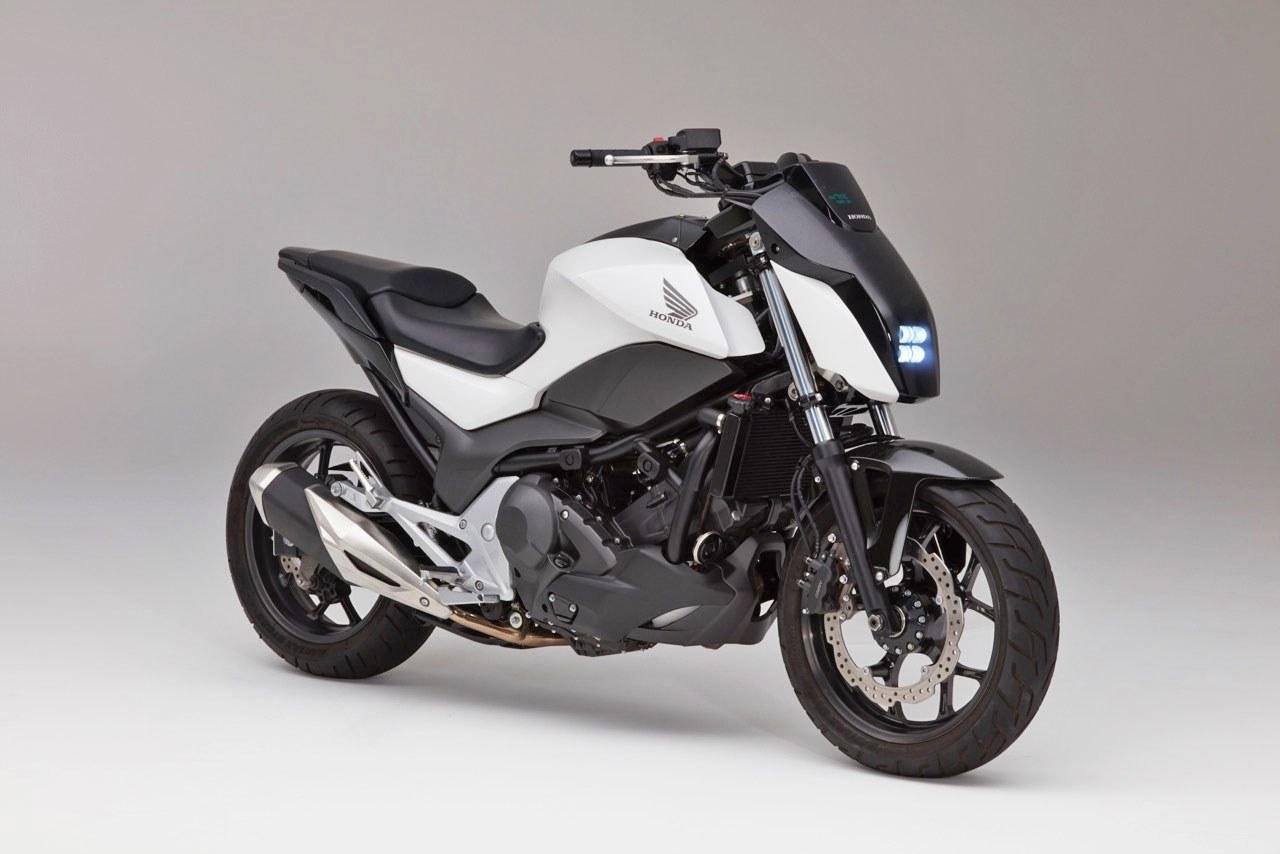motorcycle: (219, 112, 1070, 778)
